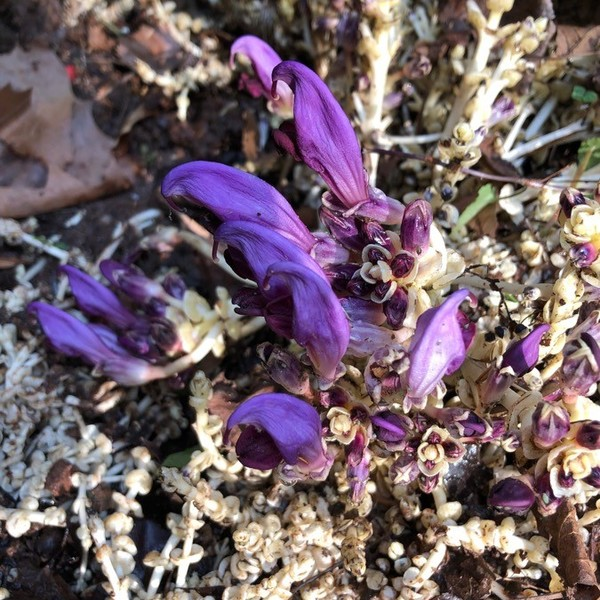obstacle: (130, 86, 520, 511)
